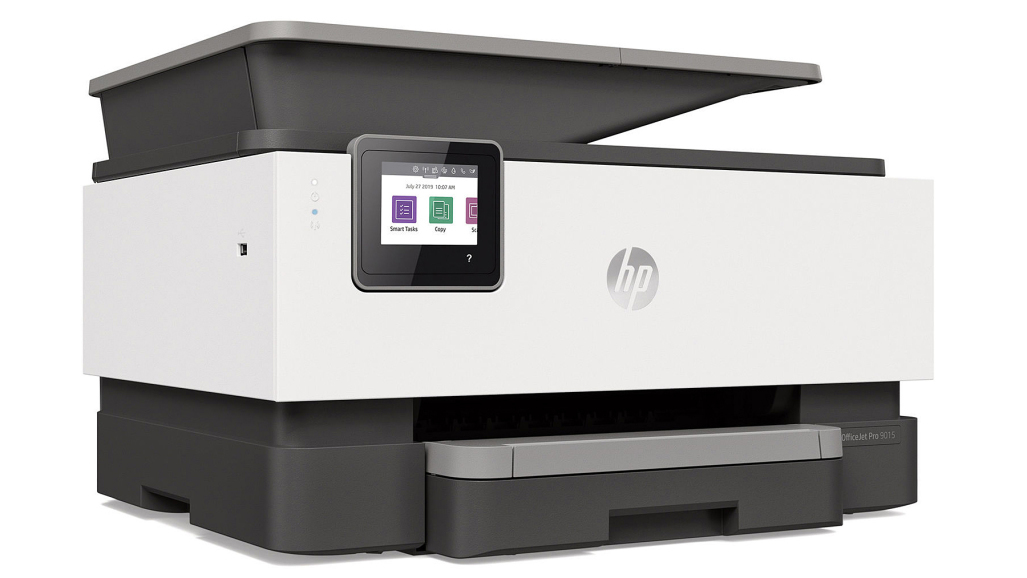printer: (78, 17, 935, 562)
